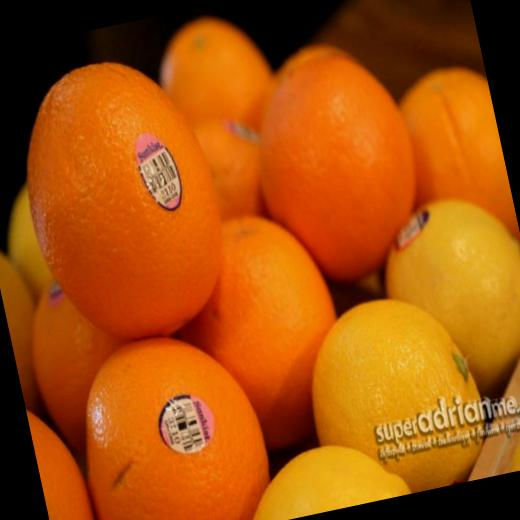Grape: (6, 42, 242, 353), (236, 31, 432, 294), (294, 278, 500, 510), (62, 317, 284, 520), (176, 207, 349, 451), (372, 180, 520, 407), (394, 57, 519, 247), (19, 266, 130, 456), (239, 426, 409, 520), (0, 240, 56, 412), (2, 182, 58, 296)
